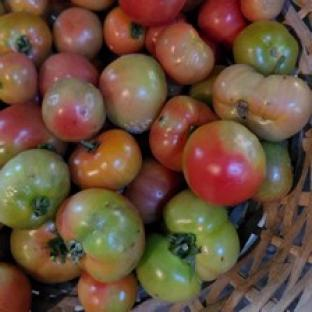Tomato: (56, 189, 144, 282), (214, 65, 311, 140), (183, 120, 266, 206), (163, 189, 239, 281), (0, 150, 71, 229), (99, 53, 167, 133), (150, 95, 218, 171), (136, 233, 201, 302), (69, 129, 142, 190), (10, 221, 80, 284), (0, 104, 66, 167), (42, 77, 105, 142), (124, 156, 183, 224), (233, 20, 299, 75), (155, 23, 214, 84), (0, 12, 52, 66), (52, 6, 103, 59), (39, 52, 100, 96), (254, 141, 293, 201), (77, 272, 137, 311), (104, 6, 146, 55), (0, 51, 38, 104), (145, 13, 186, 55), (0, 262, 32, 311), (187, 66, 225, 107)
